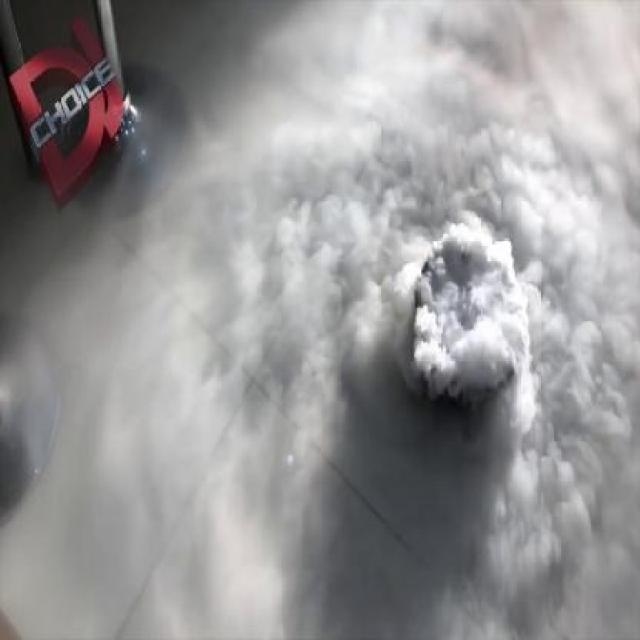smoke: (352, 127, 630, 582)
